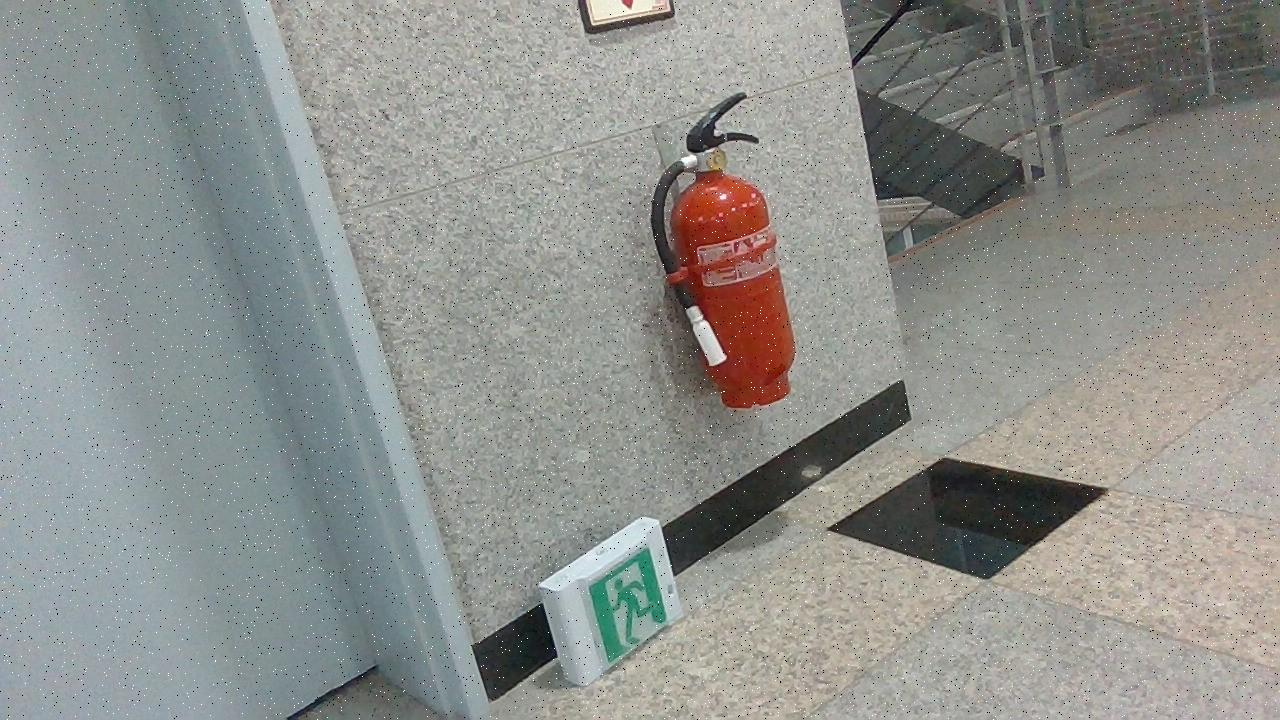emergency_exit: (649, 92, 798, 410), (537, 515, 684, 687), (577, 0, 676, 33)
